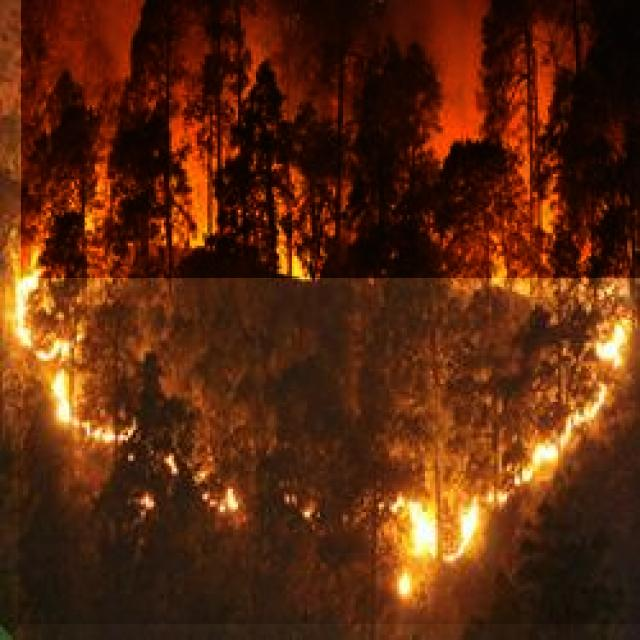Fire: (18, 218, 640, 624)
Smoke: (21, 0, 640, 278)
